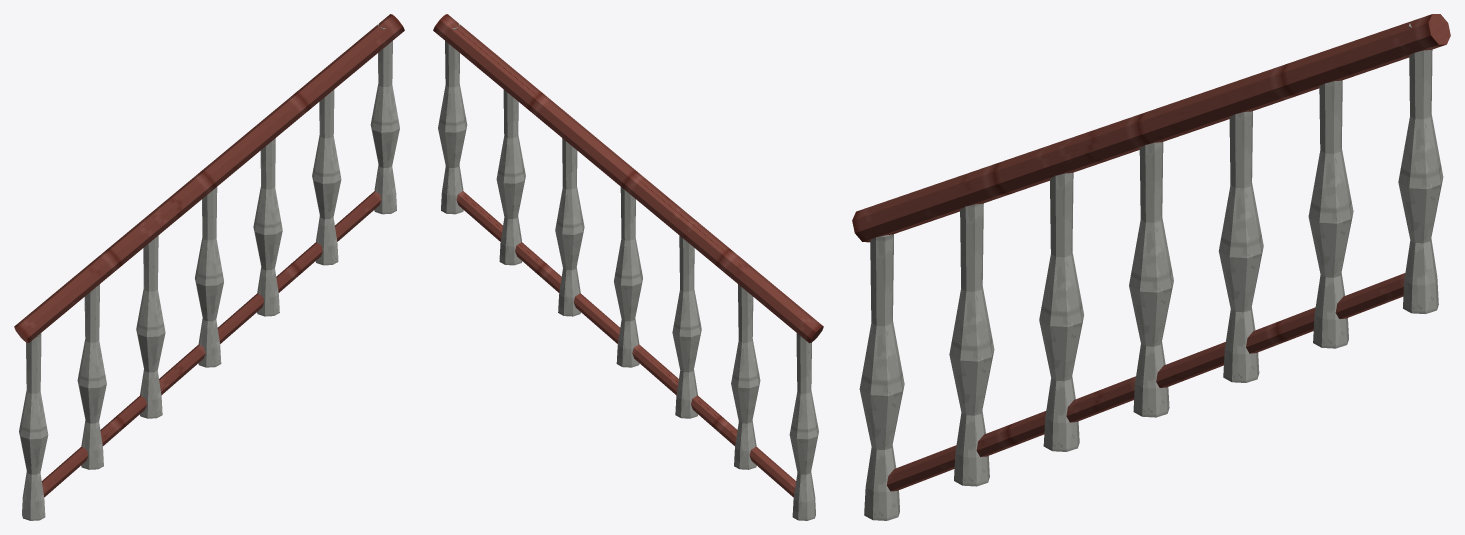
Rendered from MD_18_StairHandrail.fbx.
3 renders of one model, left to right at view 1: azimuth 30°, elevation 25°; view 2: azimuth 150°, elevation 25°; view 3: azimuth 330°, elevation 25°, orthographic. The views are drawn at different scales.
Visible parts, largest first — view 1: MD_18_StairHandrail_handrail, MD_18_StairHandrail_lower_rail, MD_18_StairHandrail_baluster, MD_18_StairHandrail_baluster.001, MD_18_StairHandrail_baluster.002, MD_18_StairHandrail_baluster.003, MD_18_StairHandrail_baluster.004, MD_18_StairHandrail_baluster.005, MD_18_StairHandrail_baluster.006; view 2: MD_18_StairHandrail_handrail, MD_18_StairHandrail_lower_rail, MD_18_StairHandrail_baluster, MD_18_StairHandrail_baluster.001, MD_18_StairHandrail_baluster.002, MD_18_StairHandrail_baluster.003, MD_18_StairHandrail_baluster.004, MD_18_StairHandrail_baluster.005, MD_18_StairHandrail_baluster.006; view 3: MD_18_StairHandrail_handrail, MD_18_StairHandrail_lower_rail, MD_18_StairHandrail_baluster, MD_18_StairHandrail_baluster.001, MD_18_StairHandrail_baluster.002, MD_18_StairHandrail_baluster.003, MD_18_StairHandrail_baluster.006, MD_18_StairHandrail_baluster.004, MD_18_StairHandrail_baluster.005.
Part boxes in pixels (x1,y1,x2,y2): MD_18_StairHandrail_handrail: (14, 14, 404, 343); MD_18_StairHandrail_lower_rail: (41, 191, 381, 497); MD_18_StairHandrail_baluster: (19, 333, 48, 520); MD_18_StairHandrail_baluster.001: (77, 284, 106, 469); MD_18_StairHandrail_baluster.002: (136, 235, 165, 418); MD_18_StairHandrail_baluster.003: (195, 187, 223, 367); MD_18_StairHandrail_baluster.004: (253, 138, 282, 316); MD_18_StairHandrail_baluster.005: (312, 89, 341, 265); MD_18_StairHandrail_baluster.006: (370, 24, 399, 214); MD_18_StairHandrail_handrail: (433, 14, 823, 343); MD_18_StairHandrail_lower_rail: (456, 191, 796, 497); MD_18_StairHandrail_baluster: (789, 333, 818, 520); MD_18_StairHandrail_baluster.001: (731, 284, 760, 469); MD_18_StairHandrail_baluster.002: (672, 235, 701, 418); MD_18_StairHandrail_baluster.003: (614, 187, 642, 367); MD_18_StairHandrail_baluster.004: (555, 138, 584, 316); MD_18_StairHandrail_baluster.005: (496, 89, 525, 265); MD_18_StairHandrail_baluster.006: (438, 24, 467, 214); MD_18_StairHandrail_handrail: (852, 14, 1450, 242); MD_18_StairHandrail_lower_rail: (887, 273, 1405, 491); MD_18_StairHandrail_baluster: (859, 234, 904, 520); MD_18_StairHandrail_baluster.001: (949, 203, 994, 486); MD_18_StairHandrail_baluster.002: (1039, 172, 1083, 451); MD_18_StairHandrail_baluster.003: (1129, 142, 1173, 417); MD_18_StairHandrail_baluster.006: (1398, 23, 1443, 313); MD_18_StairHandrail_baluster.004: (1218, 111, 1263, 382); MD_18_StairHandrail_baluster.005: (1308, 80, 1353, 348).
Size of the model in its own units: 2.19 by 2.25 by 0.15.
Materials: 2 (2 with a texture image).
